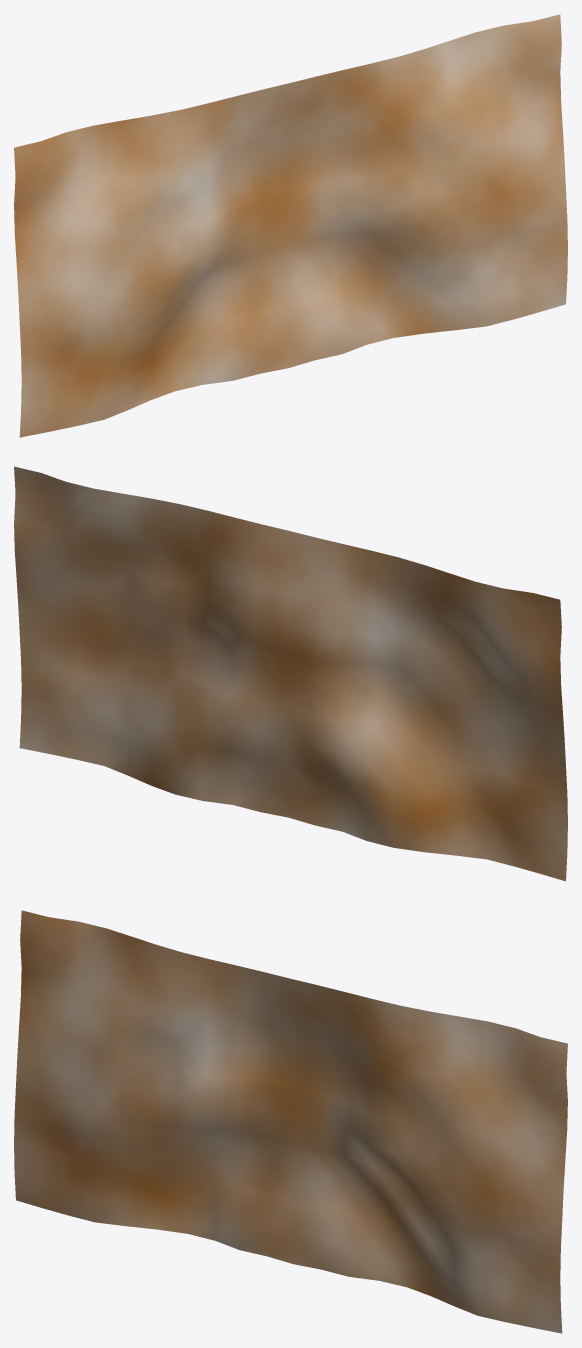
File: tile_wall.fbx
3 renders of one model, top to bottom at view 1: azimuth 30°, elevation 25°; view 2: azimuth 150°, elevation 25°; view 3: azimuth 330°, elevation 25°, orthographic.
Visible parts, largest first — view 1: pPlane3; view 2: pPlane3; view 3: pPlane3.
Part boxes in pixels (x1,y1,x2,y2): pPlane3: [14, 14, 567, 437]; pPlane3: [14, 466, 567, 881]; pPlane3: [14, 910, 567, 1333].
Size of the model in its own units: 7.56 by 3.78 by 0.4497.
Materials: 1 (1 with a texture image).
